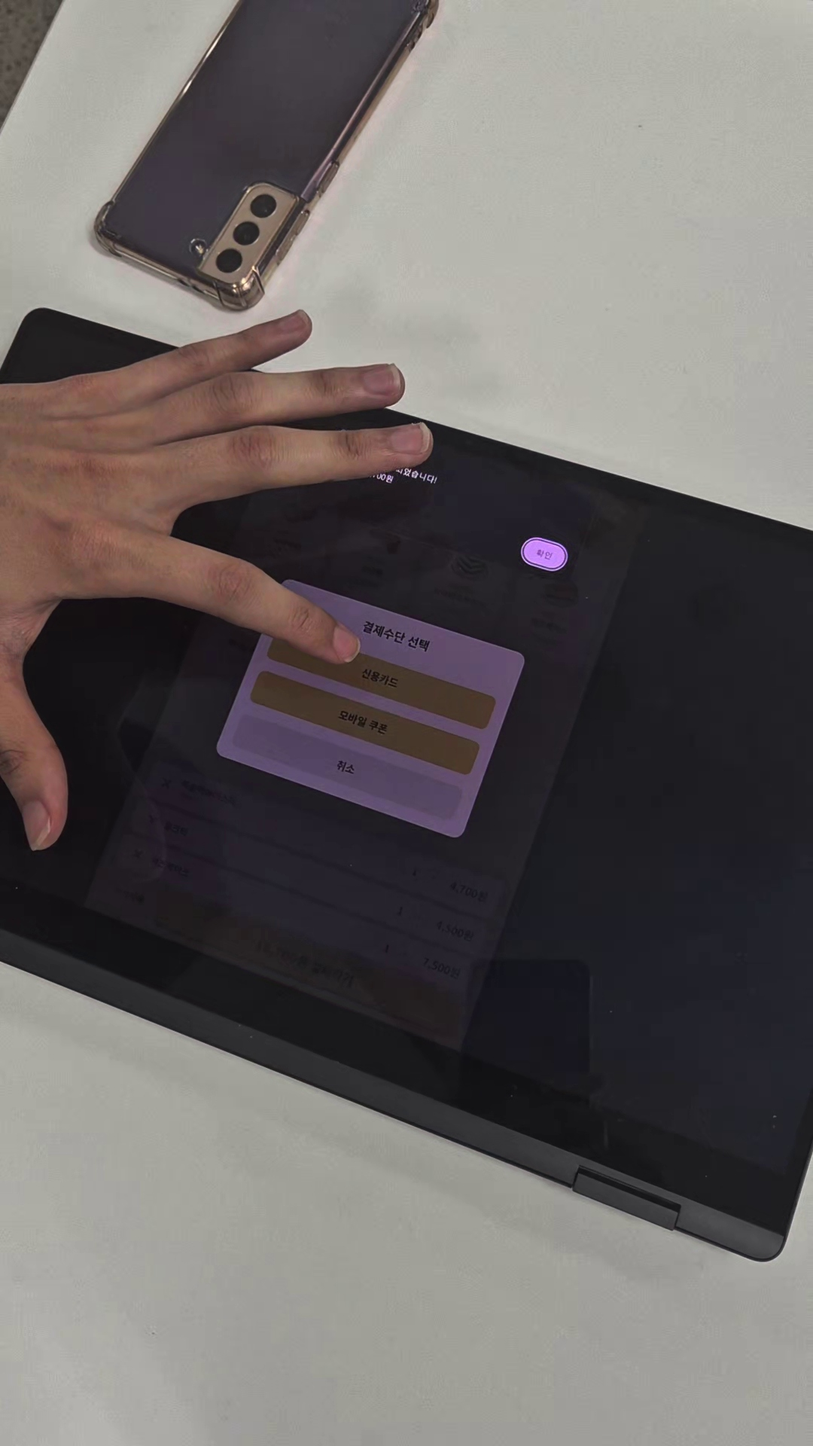action_button: (231, 712, 465, 823), (248, 669, 481, 776), (266, 626, 497, 731)
popup_modal: (213, 577, 527, 840)
